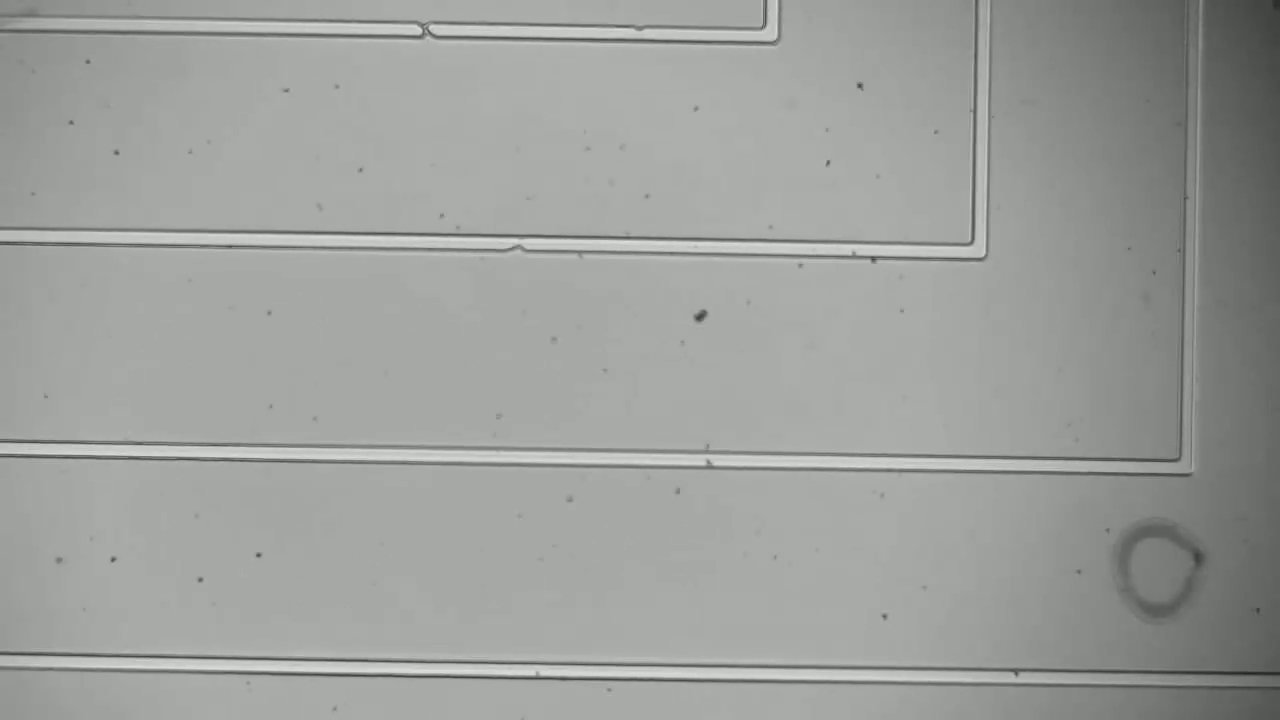edge_bite: (498, 228, 538, 259)
open: (407, 13, 442, 45)
stains_enbedded: (1006, 658, 1033, 693)
